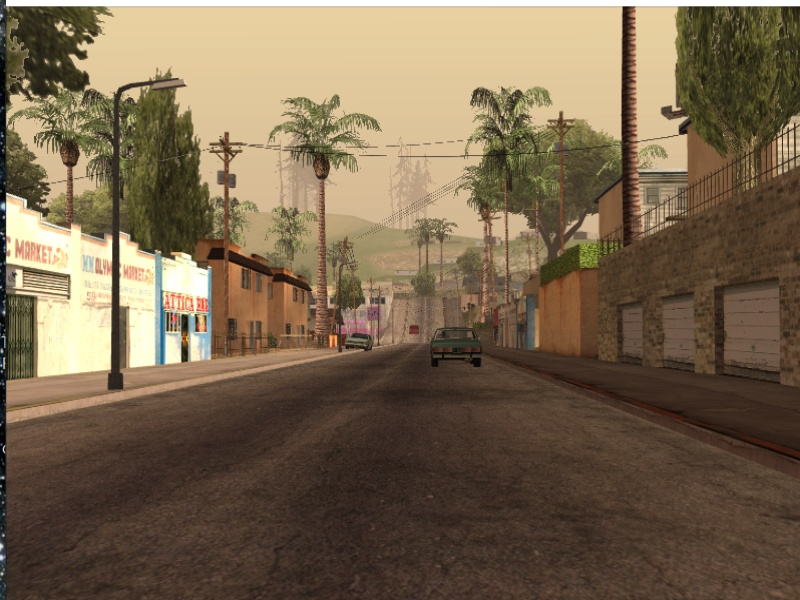pole: (108, 91, 128, 390)
vehicle: (428, 325, 486, 367), (347, 332, 374, 353)
